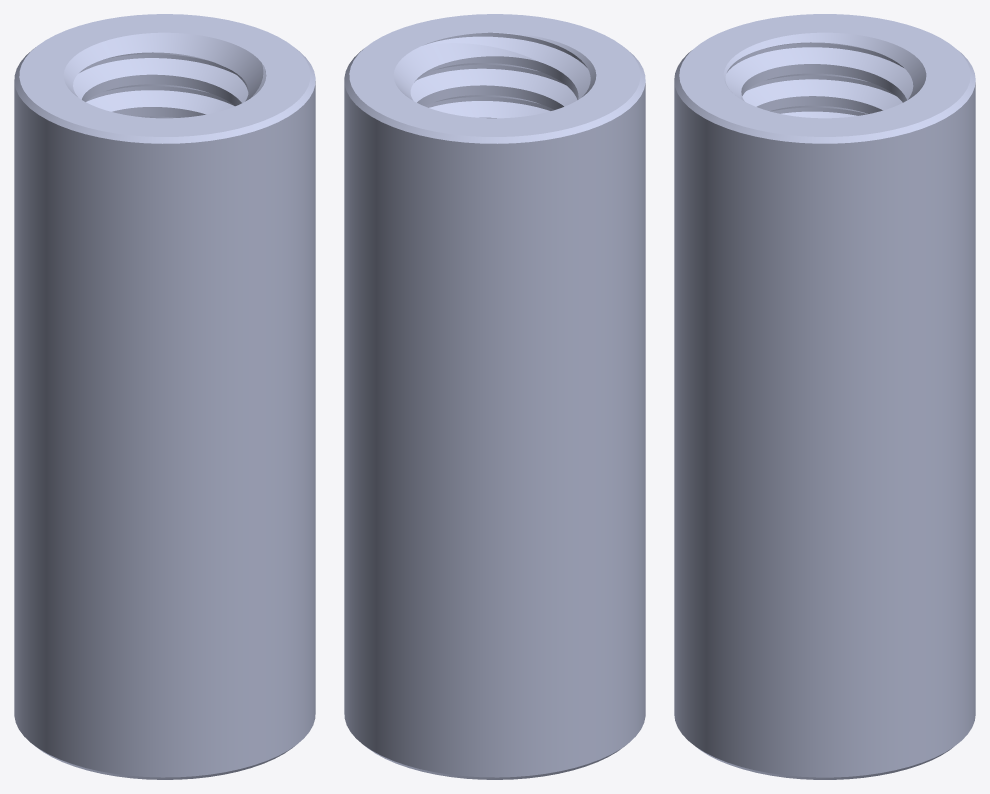
Rendered from _1501_0006_0140_STEP_1_.obj.
3 renders of one model, left to right at view 1: azimuth 30°, elevation 25°; view 2: azimuth 150°, elevation 25°; view 3: azimuth 270°, elevation 25°, orthographic.
Parts seen in each view (by area): view 1: mesh2324, mesh2325, mesh2417, mesh2411, mesh2415, mesh2326, mesh2369, mesh2418, mesh2327, mesh2367, mesh2409, mesh2407 (+1 smaller); view 2: mesh2324, mesh2325, mesh2417, mesh2411, mesh2415, mesh2326, mesh2369, mesh2327, mesh2414, mesh2408, mesh2410, mesh2406 (+1 smaller); view 3: mesh2325, mesh2417, mesh2411, mesh2327, mesh2418, mesh2413, mesh2368, mesh2323, mesh2416.
Boxes of the visible parts, box(x1,y1,x2,y2) form: mesh2324: box(14, 83, 240, 777); mesh2325: box(240, 81, 315, 768); mesh2417: box(19, 14, 310, 136); mesh2411: box(73, 58, 266, 114); mesh2415: box(114, 32, 263, 101); mesh2326: box(14, 47, 239, 143); mesh2369: box(123, 74, 241, 105); mesh2418: box(63, 38, 120, 96); mesh2327: box(238, 49, 315, 135); mesh2367: box(123, 107, 205, 117); mesh2409: box(79, 54, 235, 74); mesh2407: box(87, 86, 234, 105); mesh2324: box(419, 83, 645, 777); mesh2325: box(344, 81, 419, 768); mesh2417: box(349, 14, 640, 136); mesh2411: box(410, 36, 590, 118); mesh2415: box(393, 43, 535, 100); mesh2326: box(420, 47, 645, 143); mesh2369: box(417, 85, 536, 106); mesh2327: box(344, 49, 421, 135); mesh2414: box(414, 56, 536, 82); mesh2408: box(417, 64, 565, 84); mesh2410: box(423, 32, 587, 67); mesh2406: box(425, 97, 554, 110); mesh2325: box(674, 82, 975, 777); mesh2417: box(679, 14, 970, 136); mesh2411: box(725, 47, 913, 118); mesh2327: box(674, 76, 975, 143); mesh2418: box(723, 32, 926, 86); mesh2413: box(741, 64, 906, 102); mesh2368: box(756, 96, 882, 113); mesh2323: box(697, 747, 952, 779); mesh2416: box(766, 42, 869, 113).
Bounding box in the file's own units: 0.00594 × 0.014 × 0.00595.
